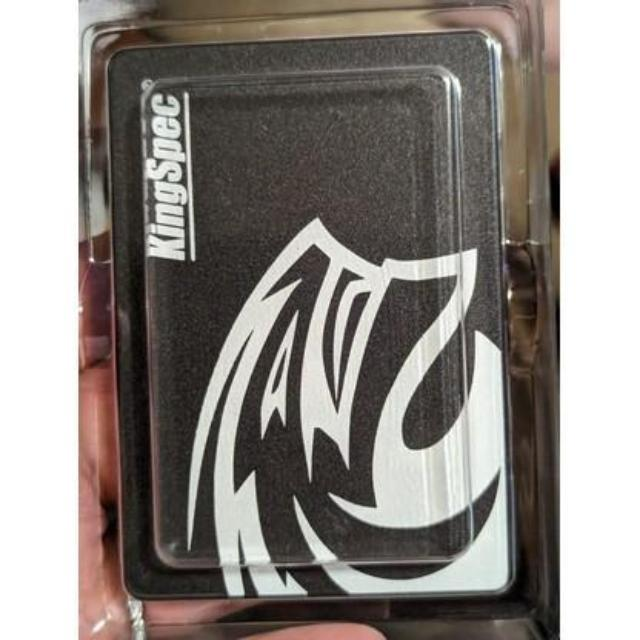DISK: (101, 29, 528, 616)
